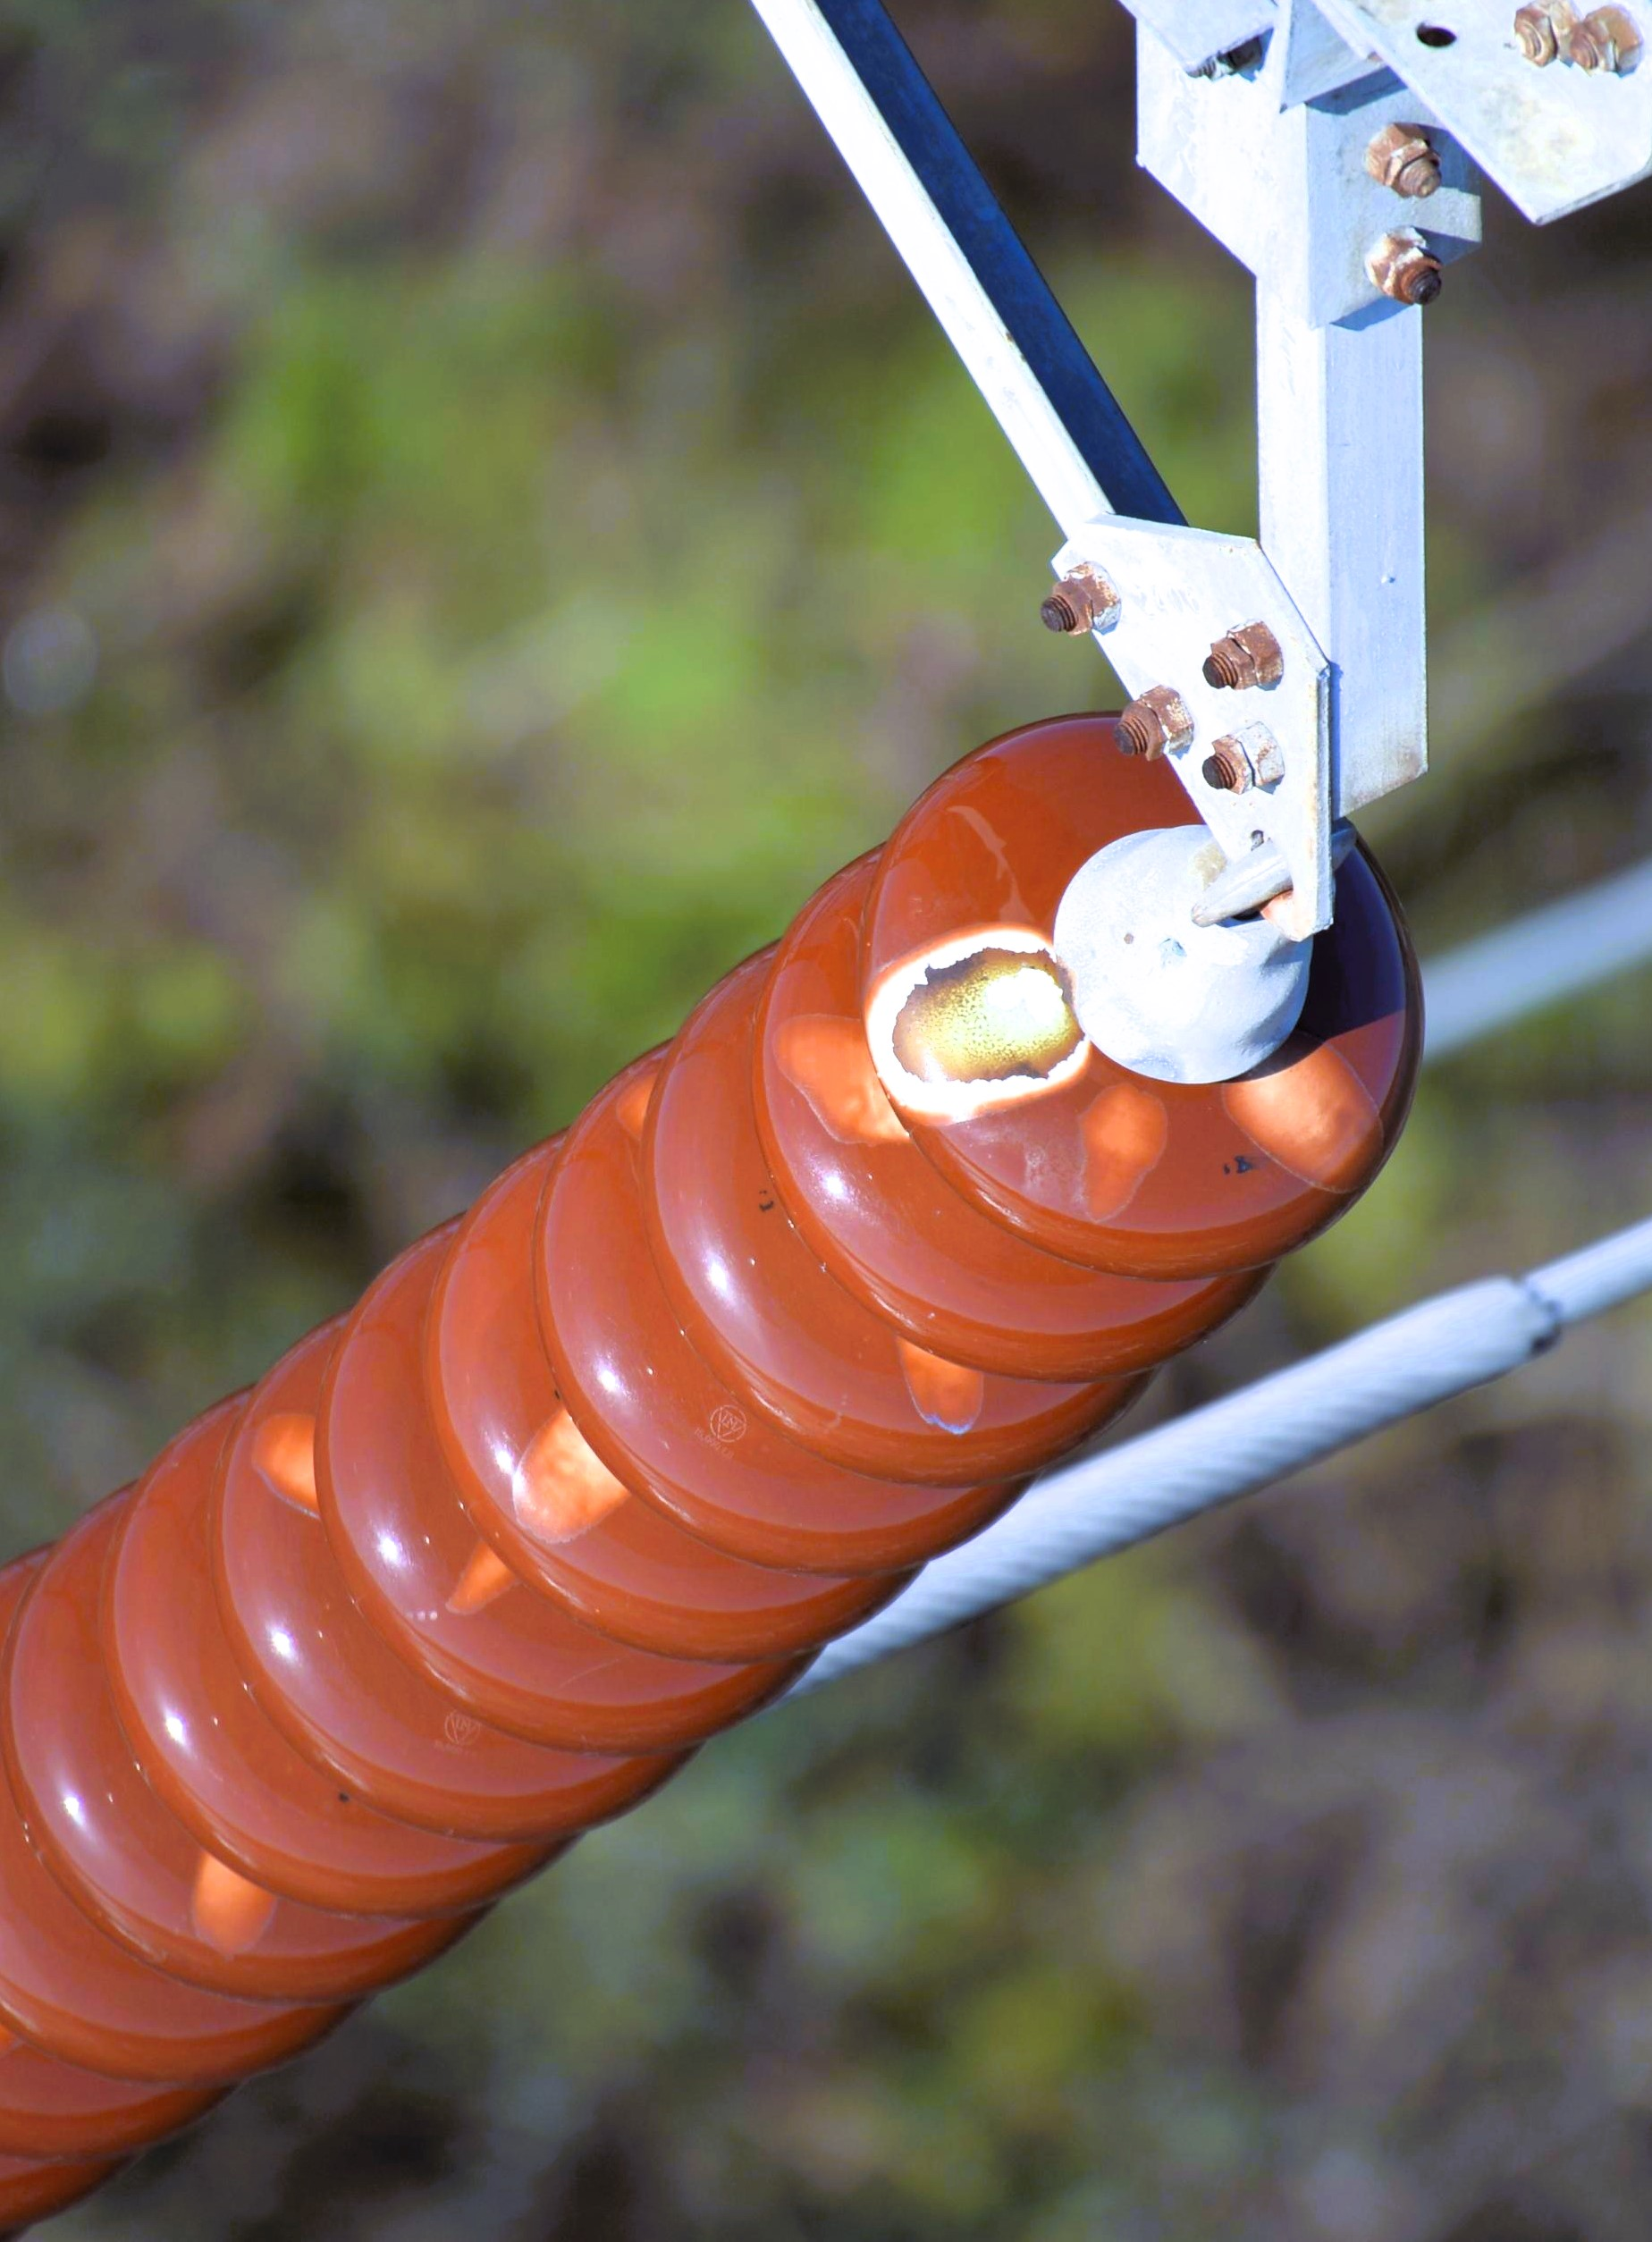Insulator flashover: (846, 696, 1452, 1292)
